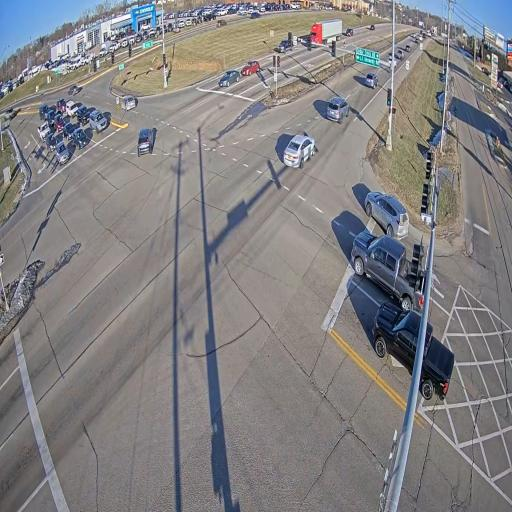pickup: (351, 231, 422, 313), (371, 302, 421, 375), (419, 323, 454, 400), (38, 121, 51, 140), (277, 40, 292, 52), (397, 48, 404, 60)
sedan: (283, 135, 316, 168), (218, 70, 240, 87), (63, 122, 78, 140), (241, 61, 260, 75), (46, 132, 57, 152), (53, 114, 65, 132), (217, 20, 227, 27)
suv: (363, 192, 409, 239), (327, 97, 349, 123), (138, 128, 156, 156), (89, 110, 107, 133), (70, 128, 88, 149), (55, 141, 70, 164), (76, 105, 91, 126), (66, 100, 78, 118), (123, 95, 137, 110), (365, 73, 378, 89), (46, 109, 56, 127), (39, 103, 49, 119), (68, 84, 82, 95), (56, 99, 66, 114), (5, 108, 16, 120), (250, 11, 260, 18), (346, 28, 354, 36), (419, 32, 426, 40), (405, 45, 410, 52), (370, 24, 375, 30), (415, 38, 418, 42)
truck: (310, 19, 342, 44)
